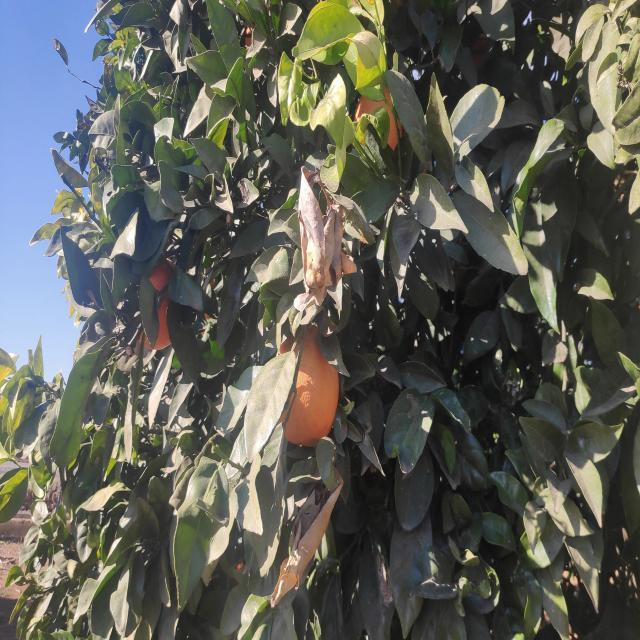Jeruk Sudah Matang: (280, 324, 340, 444), (140, 260, 176, 352), (356, 83, 404, 151)
